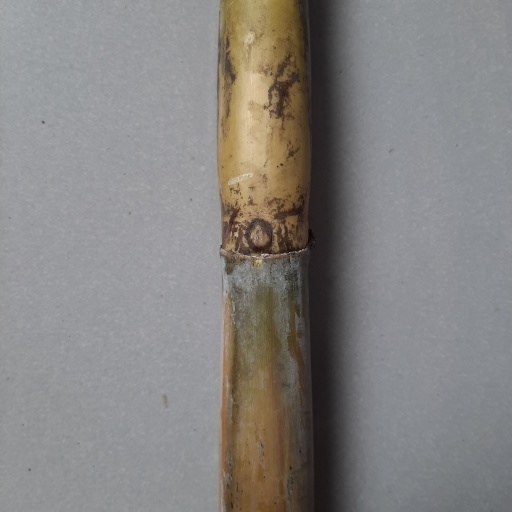Bud: (246, 218, 275, 253)
